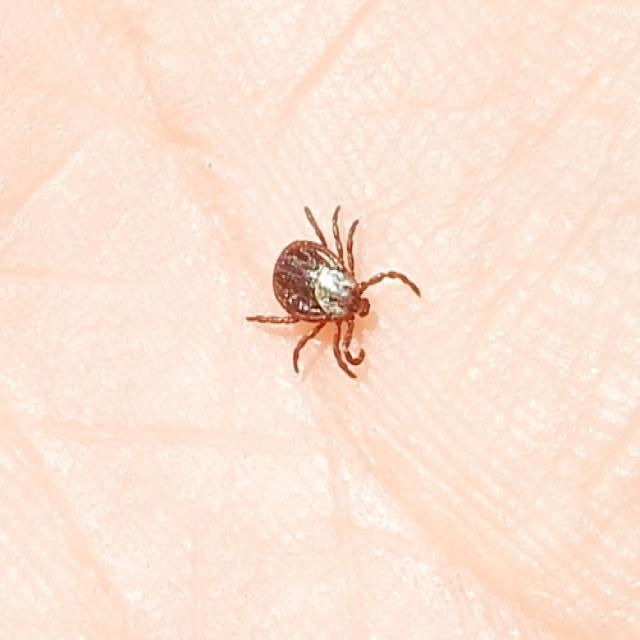Dermacentor Reticulatus-F: (250, 211, 424, 378)
